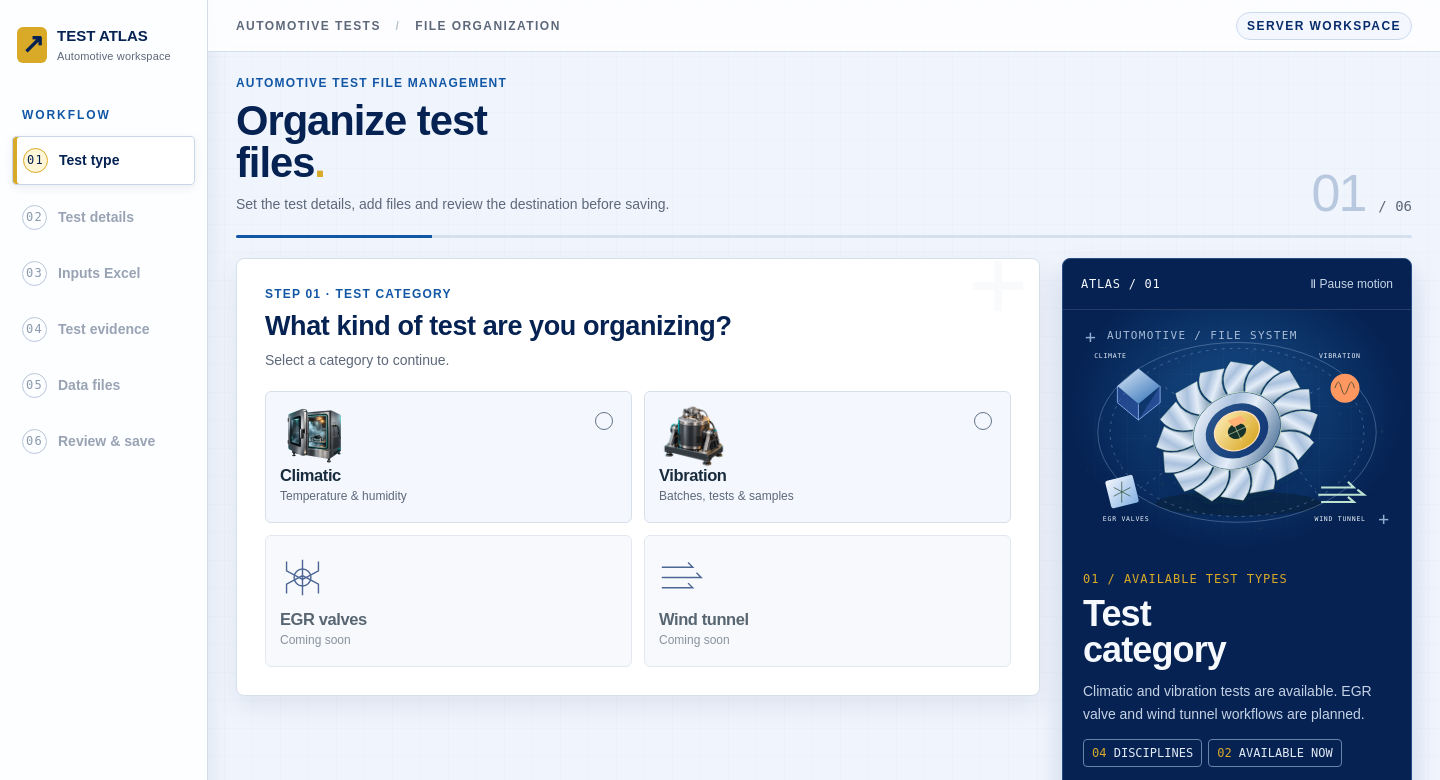
Test: Test Atlas original interface › opens the vibration batch workflow from the test type selector
Click the button with class "type-choice" that starts with "Vibration" at x=694, y=436, box [644, 391, 1011, 523]
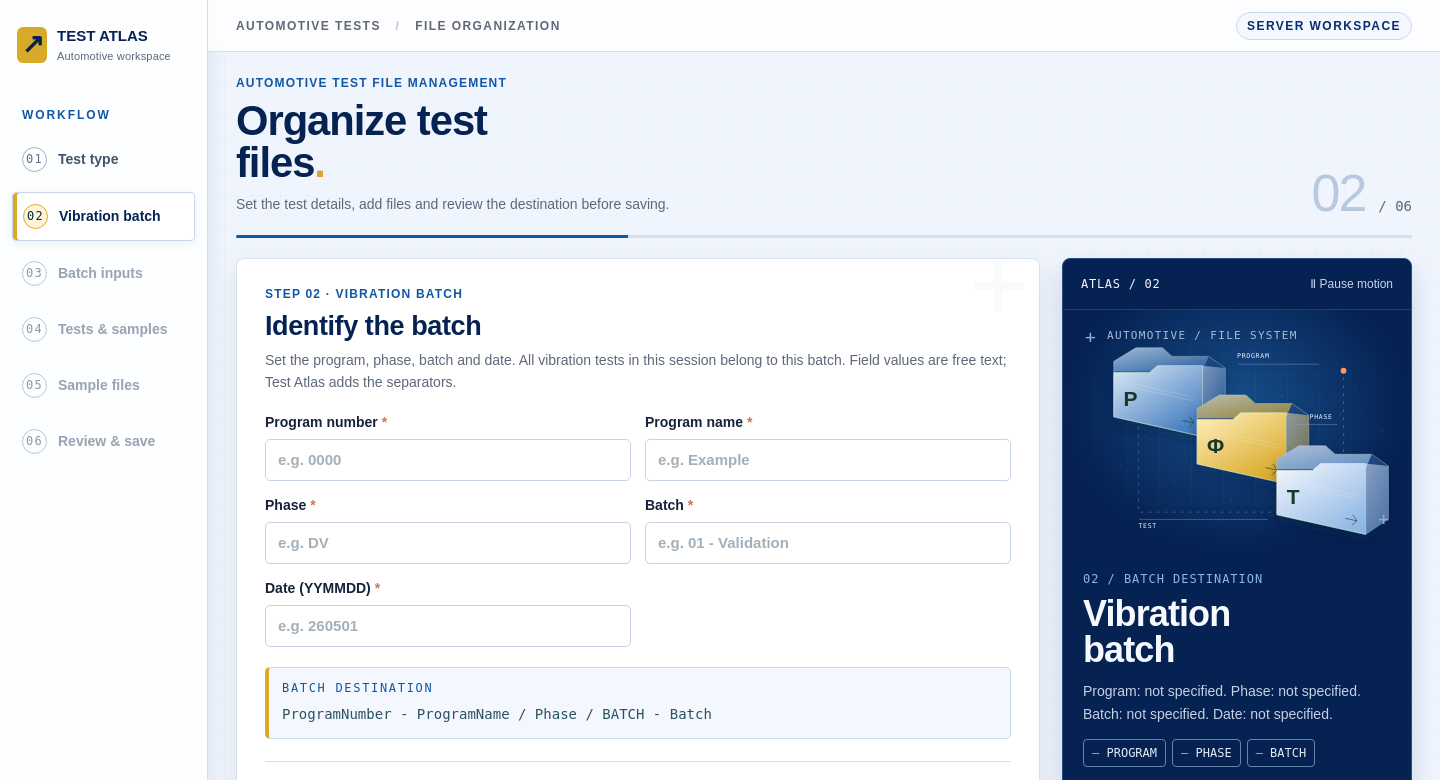
Now the heading "Identify the batch" is shown, box [265, 310, 481, 340]
